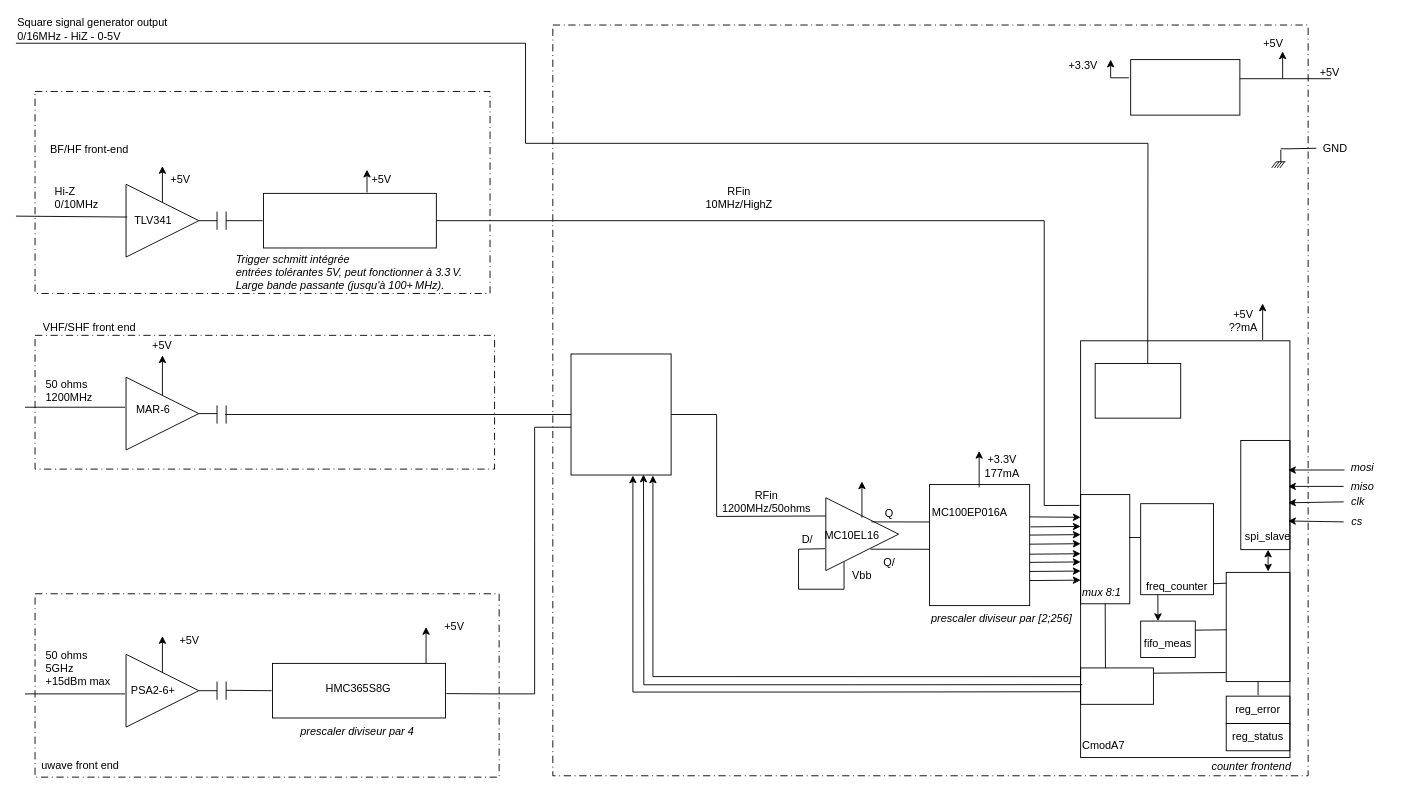
The diagram is 1406 pixels wide and 795 high, and some of its shapes have lost their labels. The shapes that lost their labels are listed below. From the top down, each one's centre as x and y in pixels, then its label:
At pixel 1185 87: "+3.3V regulator".
At pixel 349 220: "74LVC1G17".
At pixel 1137 390: "NCO (0-16MHz)".
At pixel 620 414: "SKY13251".
At pixel 1257 626: "spi_decode".
At pixel 1116 685: "band_selector".
